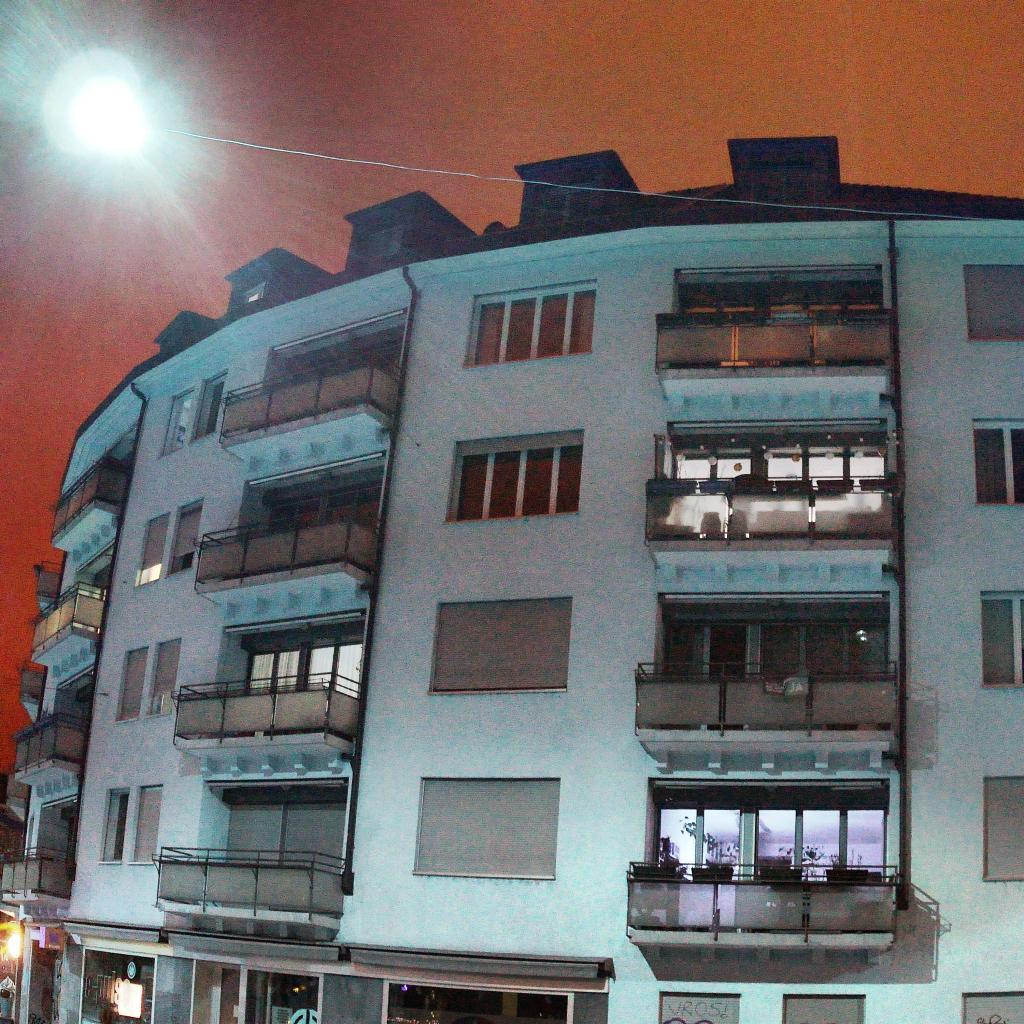balcony-fence: (633, 659, 902, 740), (624, 858, 901, 935), (217, 347, 406, 441), (191, 502, 386, 590), (644, 478, 903, 543), (654, 307, 900, 371), (170, 670, 366, 749), (151, 846, 346, 921), (51, 459, 132, 539), (32, 580, 109, 657), (15, 713, 88, 773), (0, 845, 74, 899)
facade: (0, 151, 1024, 1024)
shop: (0, 909, 608, 1024)
window: (413, 777, 560, 880), (431, 597, 573, 693), (450, 431, 583, 521), (469, 281, 596, 364), (754, 803, 887, 882), (650, 796, 742, 880), (158, 366, 230, 459), (760, 622, 888, 673), (134, 497, 204, 588), (116, 636, 183, 721), (964, 264, 1024, 341), (102, 785, 162, 862), (983, 774, 1024, 883), (980, 591, 1024, 690), (973, 421, 1024, 504), (668, 620, 746, 674), (285, 802, 345, 872), (766, 448, 886, 481), (306, 641, 363, 699), (226, 804, 282, 863), (658, 991, 741, 1024), (782, 994, 867, 1024), (538, 180, 596, 222), (771, 288, 881, 310), (678, 447, 751, 480), (326, 489, 380, 533), (249, 646, 300, 689), (962, 990, 1024, 1024), (289, 344, 341, 383), (269, 493, 321, 529), (349, 342, 401, 377), (685, 288, 759, 312), (365, 224, 404, 263), (244, 281, 266, 303)
